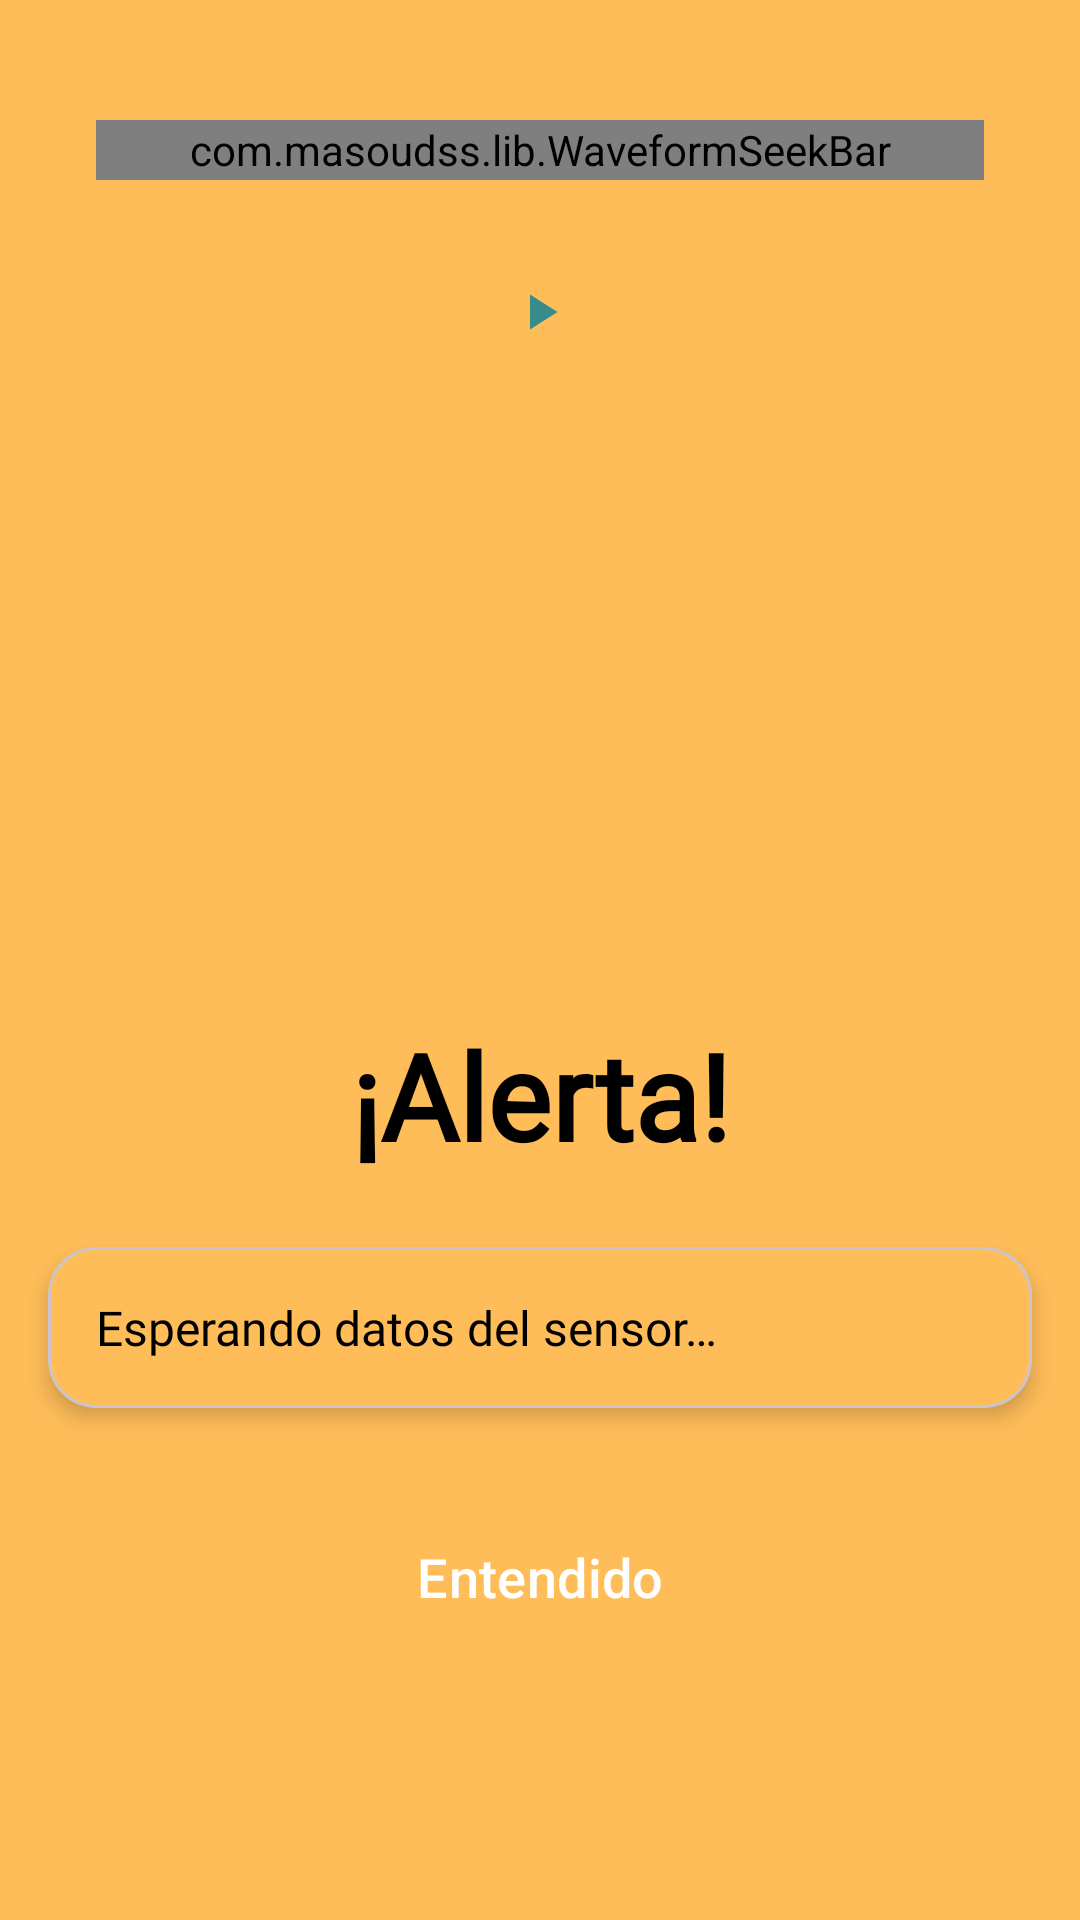

Locate icon controls on the screen. Image size 1080*1920, boxes as (x1, y1, x2, y2).
play: (530, 294, 557, 330)
